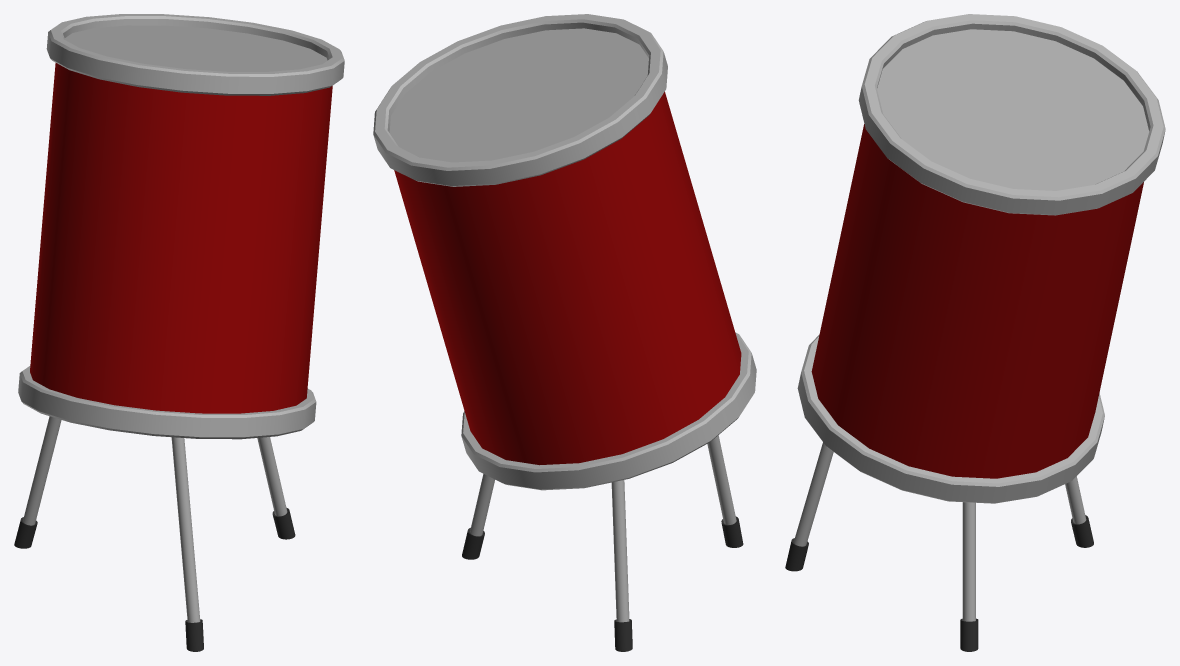
File: floortom.fbx
3 renders of one model, left to right at view 1: azimuth 30°, elevation 25°; view 2: azimuth 150°, elevation 25°; view 3: azimuth 270°, elevation 25°, orthographic. The views are drawn at different scales.
Parts seen in each view (by area): view 1: pCylinder9, pCylinder30; view 2: pCylinder9, pCylinder30; view 3: pCylinder9, pCylinder30.
Boxes of the visible parts, left/top/right/bottom form: pCylinder9: left=18, top=14, right=344, bottom=439; pCylinder30: left=14, top=416, right=295, bottom=651; pCylinder9: left=373, top=14, right=756, bottom=490; pCylinder30: left=462, top=435, right=743, bottom=651; pCylinder9: left=797, top=14, right=1165, bottom=503; pCylinder30: left=785, top=442, right=1093, bottom=651.
Size of the model in its own units: 12.79 by 20.73 by 12.97.
